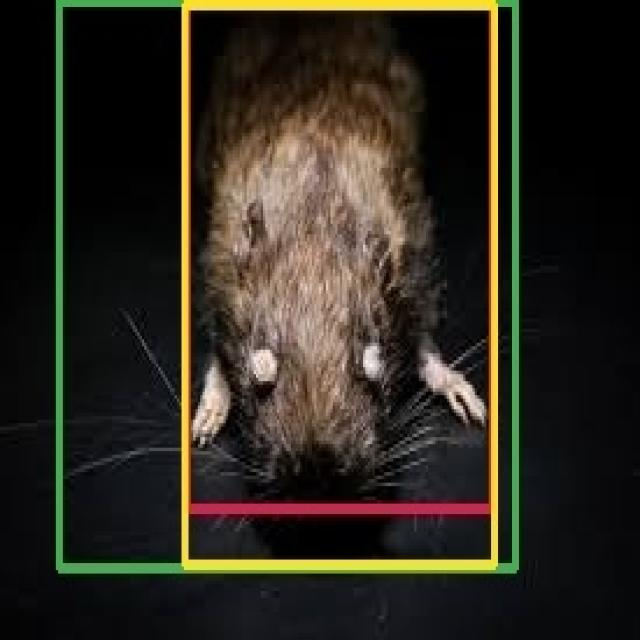rat: (61, 2, 516, 568), (186, 4, 494, 563), (188, 5, 492, 509)
